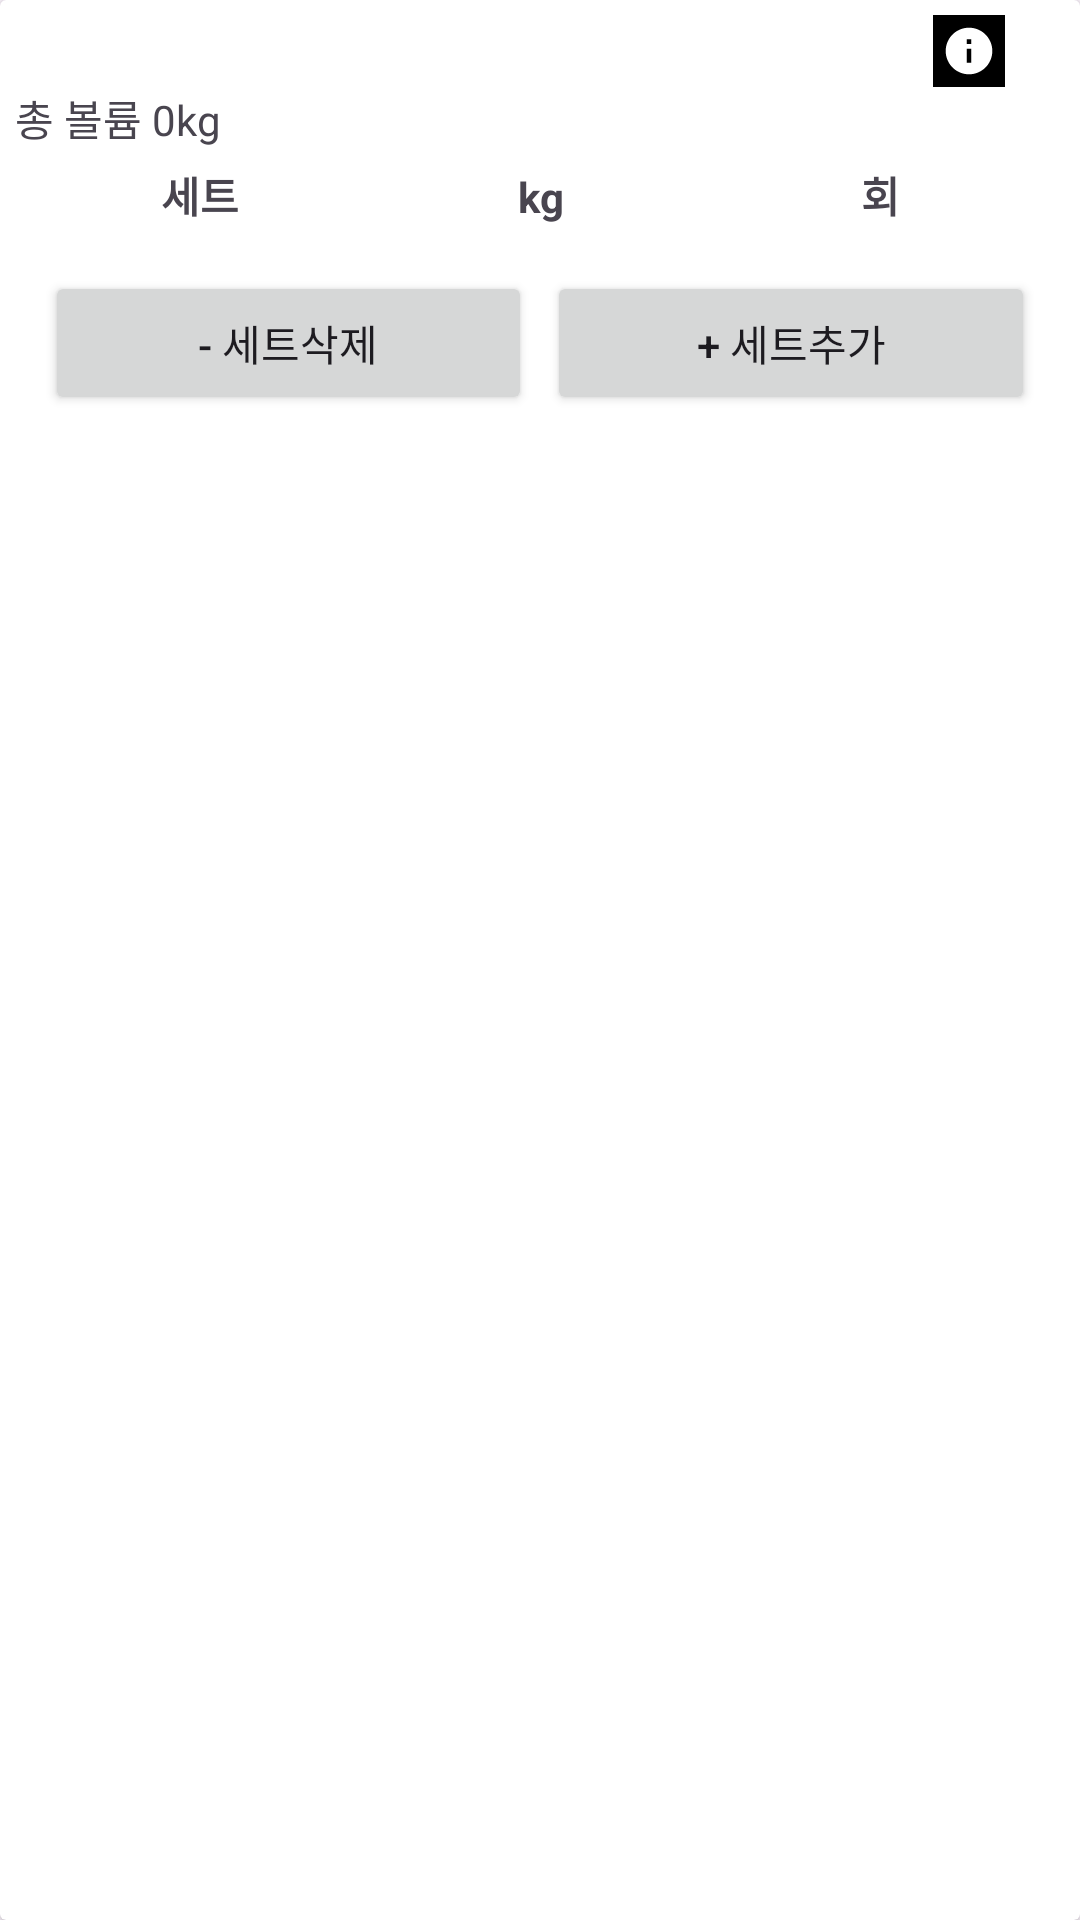

Where icons sit on this 1080 × 1920 app screen, as bbox=(x1, y1, x2, y2):
info exercise: bbox=(933, 15, 1005, 87)
